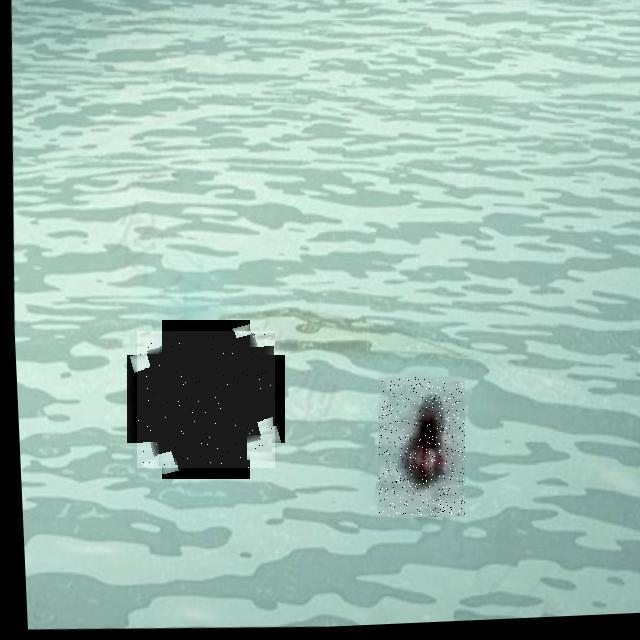swimming: (137, 331, 275, 468), (378, 377, 465, 517)
